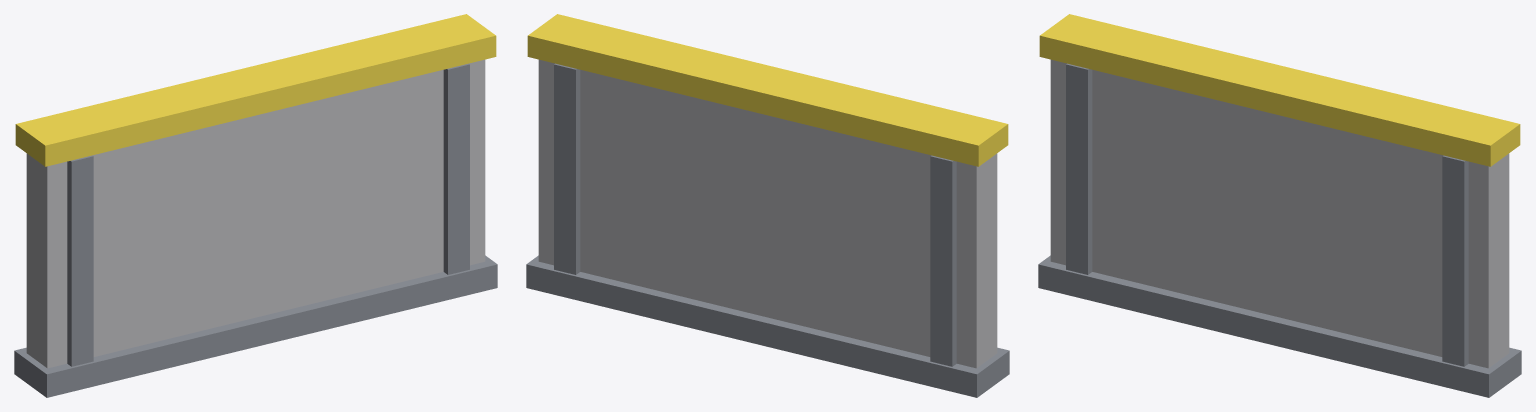
The model's file is wall.glb.
3 renders of one model, left to right at view 1: azimuth 30°, elevation 25°; view 2: azimuth 150°, elevation 25°; view 3: azimuth 330°, elevation 25°, orthographic.
Visible parts, largest first — view 1: wall; view 2: wall; view 3: wall.
Part boxes in pixels (left/top/right/bottom): wall: left=14, top=14, right=497, bottom=397; wall: left=526, top=14, right=1009, bottom=397; wall: left=1038, top=14, right=1521, bottom=397.
Size of the model in its own units: 2 by 1.06 by 0.25.
